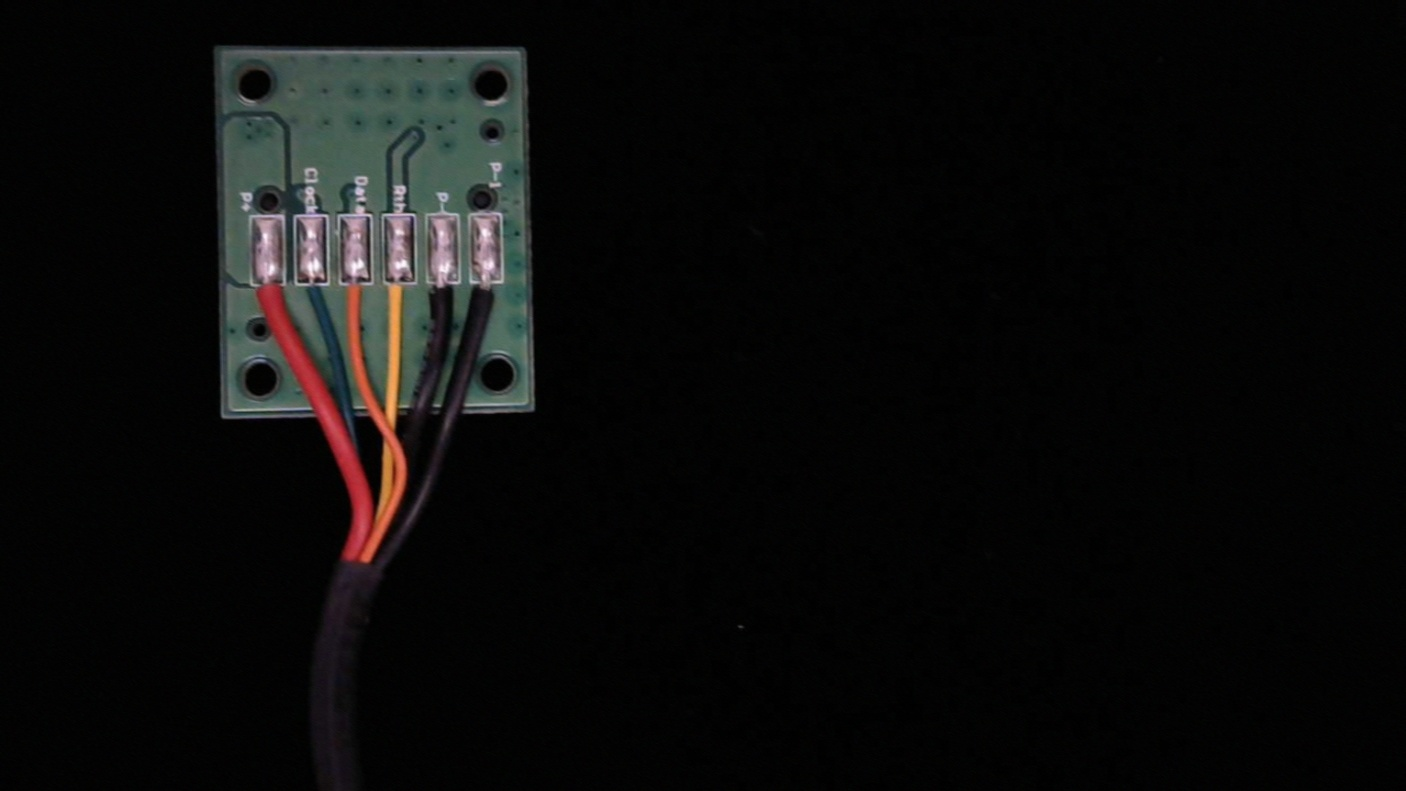Black: (425, 266, 457, 336)
Black1: (468, 267, 504, 341)
Green: (295, 266, 332, 330)
Orange: (337, 267, 372, 331)
Red: (249, 270, 283, 338)
Yellow: (381, 264, 419, 335)
